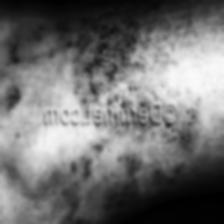Non-Cancerous Skin Condition: (74, 0, 164, 103), (74, 214, 106, 224)
